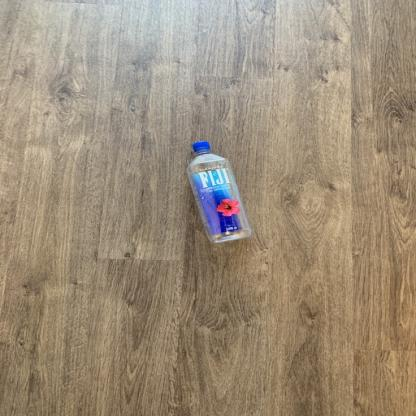trash: (182, 141, 254, 244)
